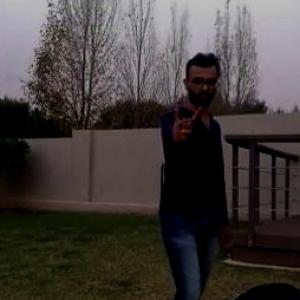takeoff-hand: (165, 96, 207, 148)
